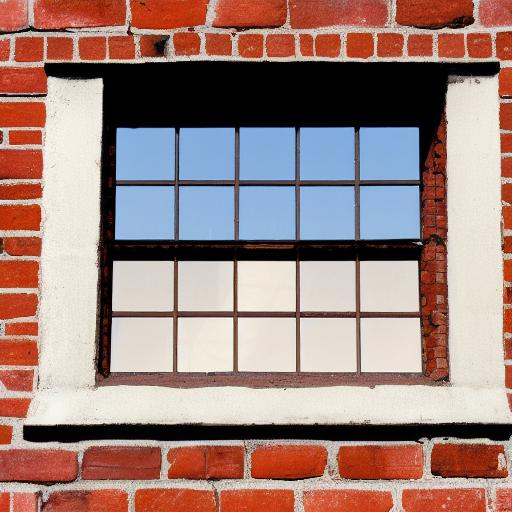Window: (26, 65, 512, 440)
